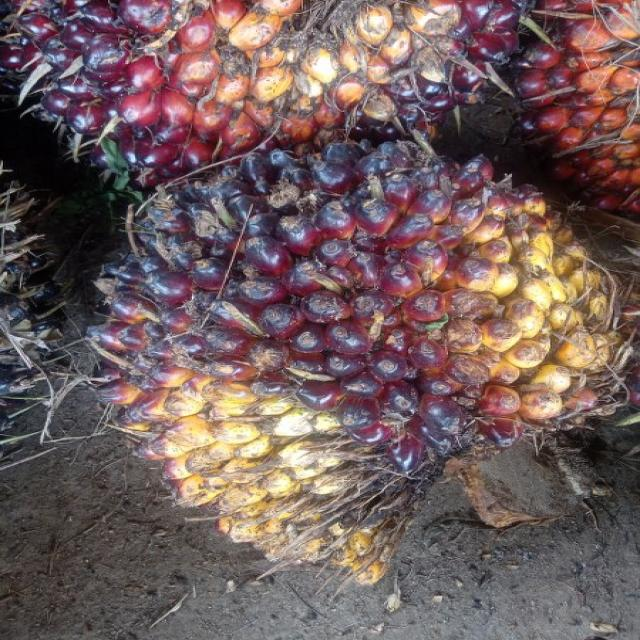fraksi 1: (77, 144, 638, 560)
